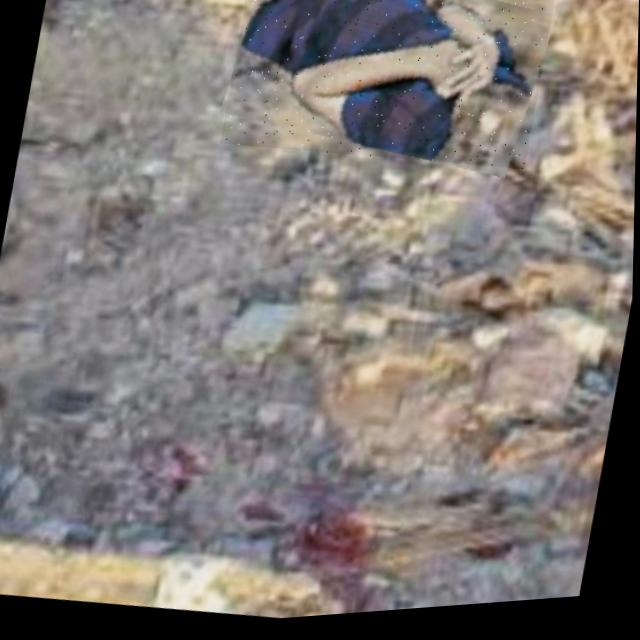Person in Rubble: (220, 0, 557, 195)
